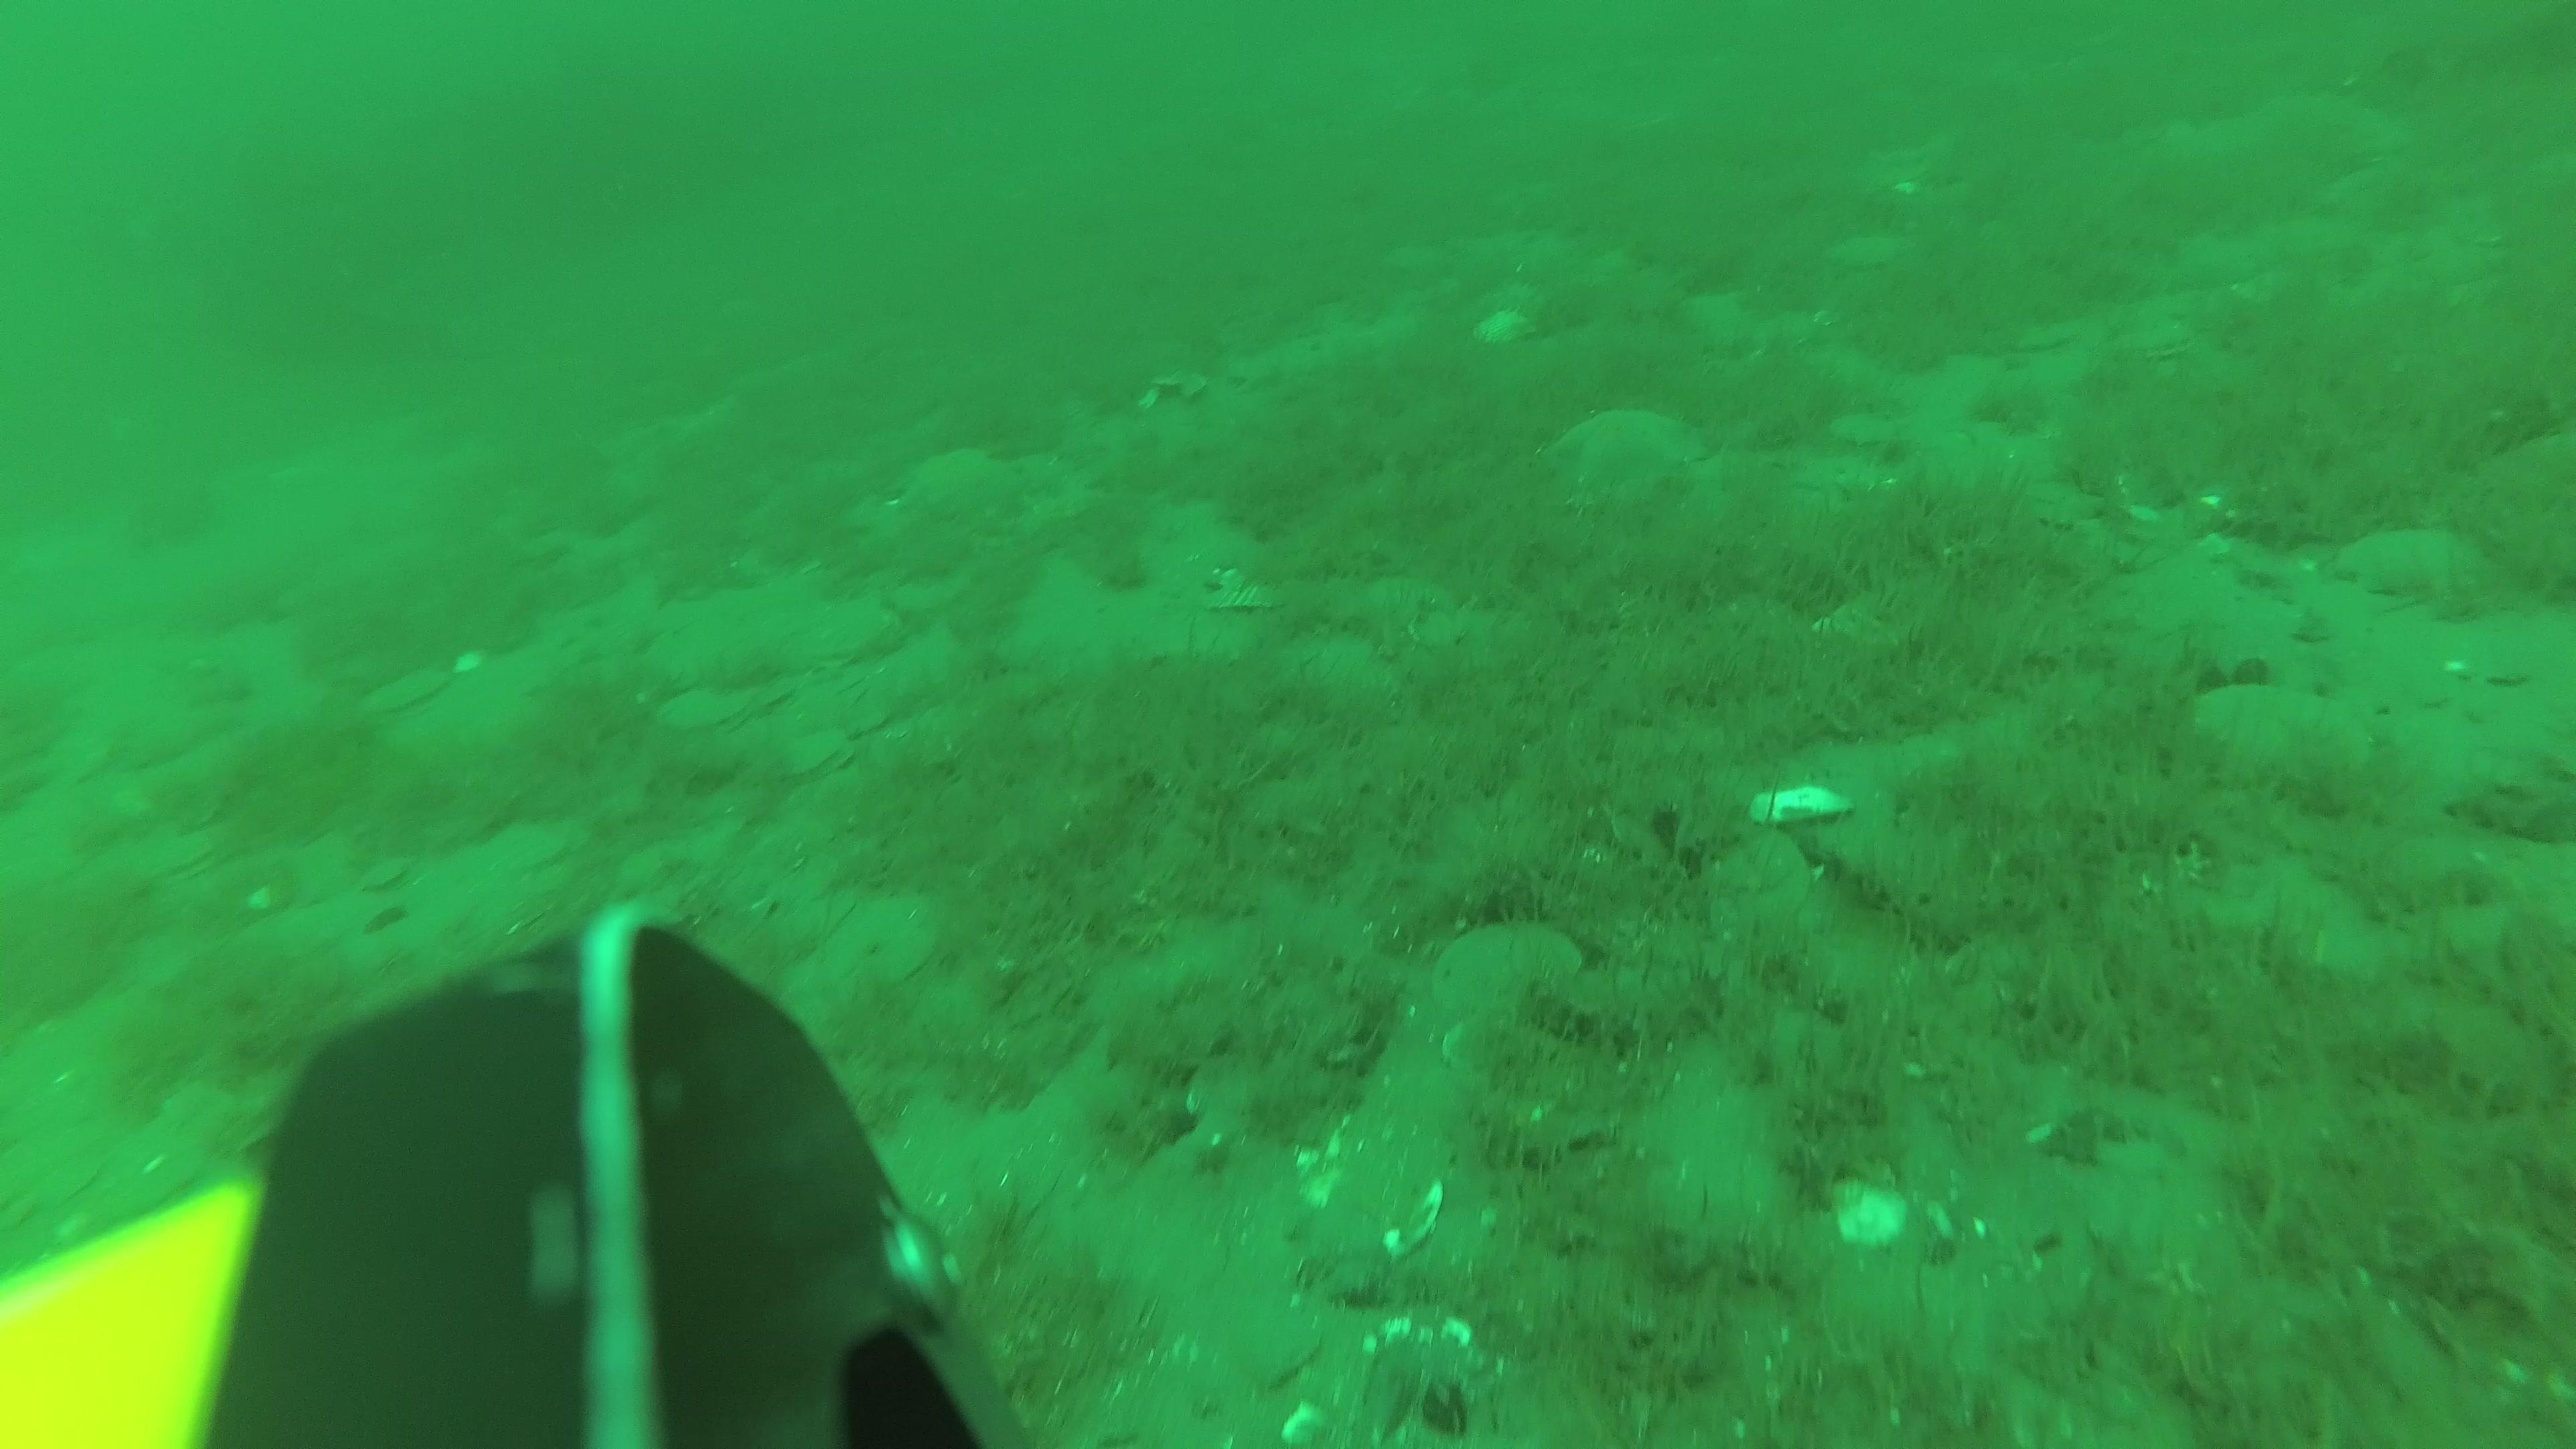scallop: (2196, 679, 2374, 784), (1435, 924, 1578, 1019), (833, 892, 947, 998), (2342, 531, 2489, 600), (656, 683, 757, 740), (354, 669, 449, 718), (791, 732, 853, 787), (154, 833, 212, 888)
starfish: (1559, 409, 1695, 492), (885, 444, 1000, 517)
